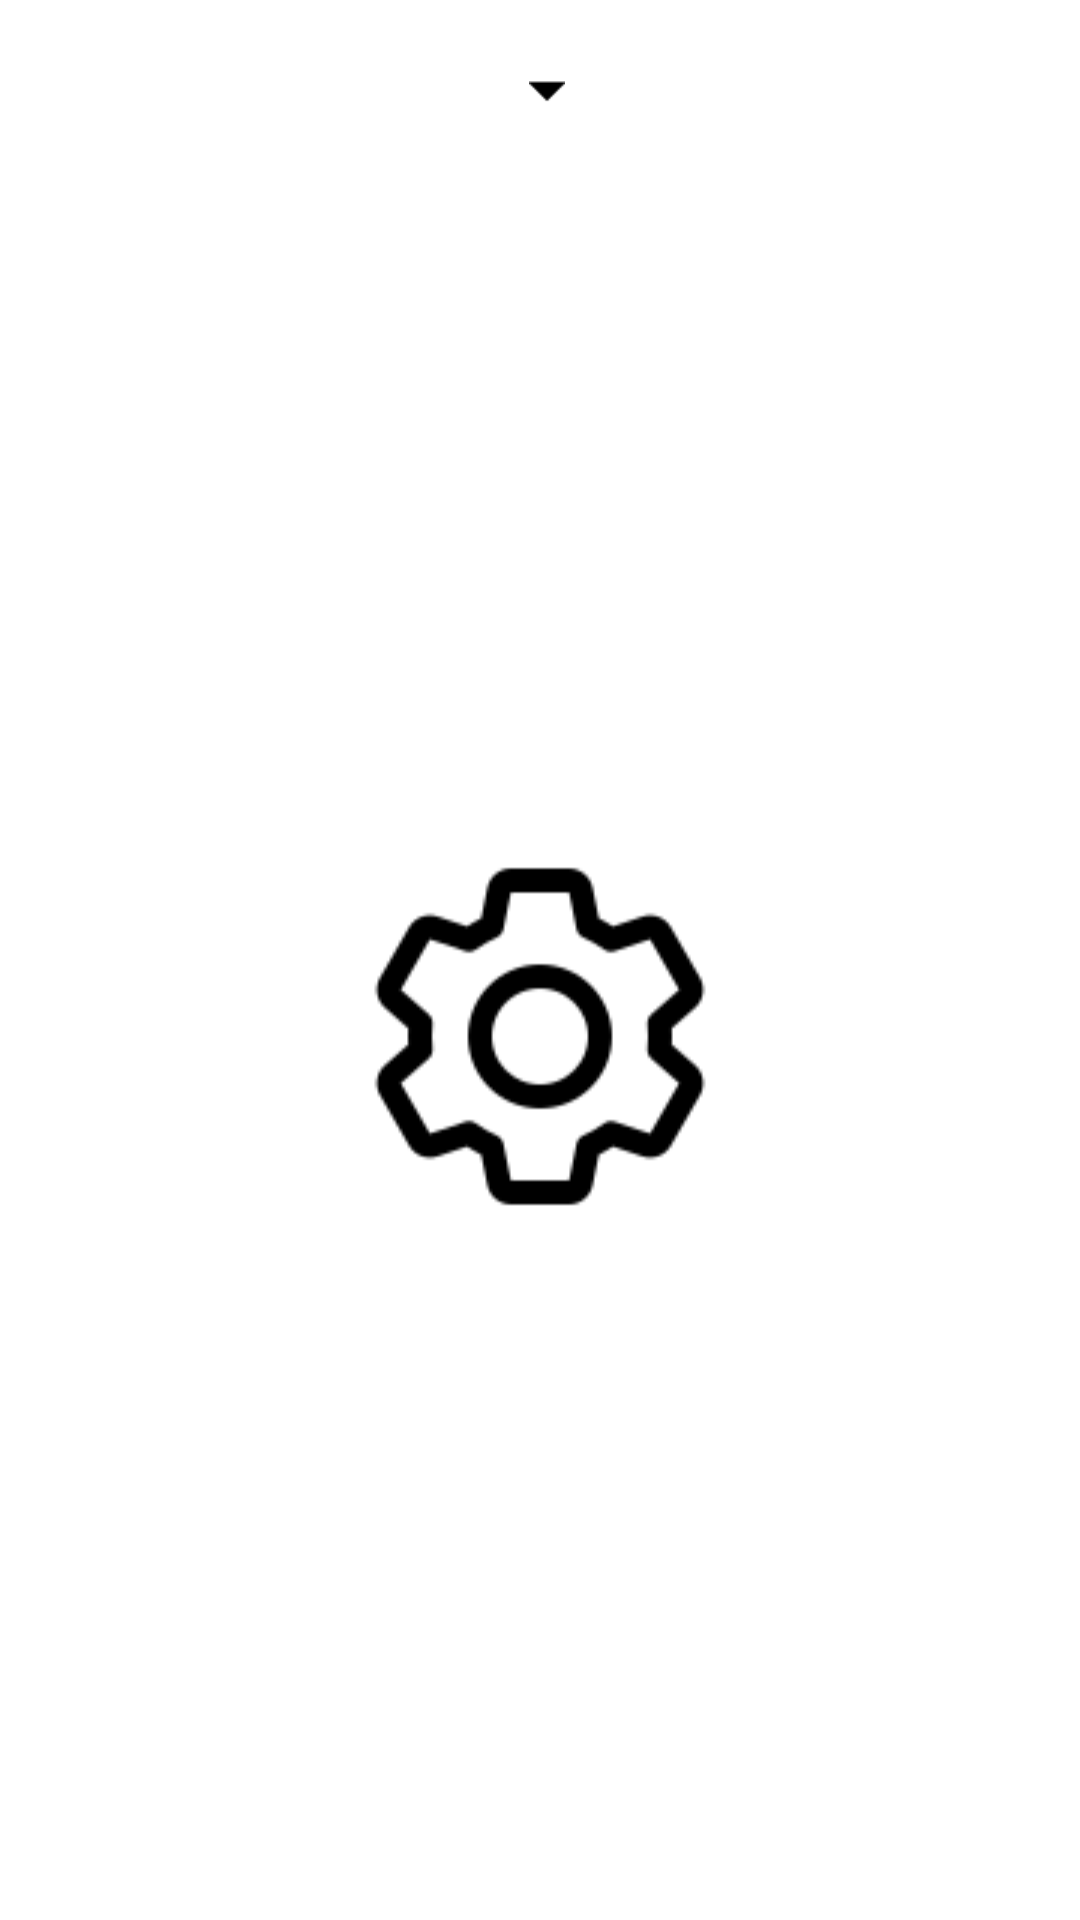

Icons on this 1080 × 1920 Android screen, each with the point to tap as point (x, y):
arrow drop down batch: point (547, 91)
